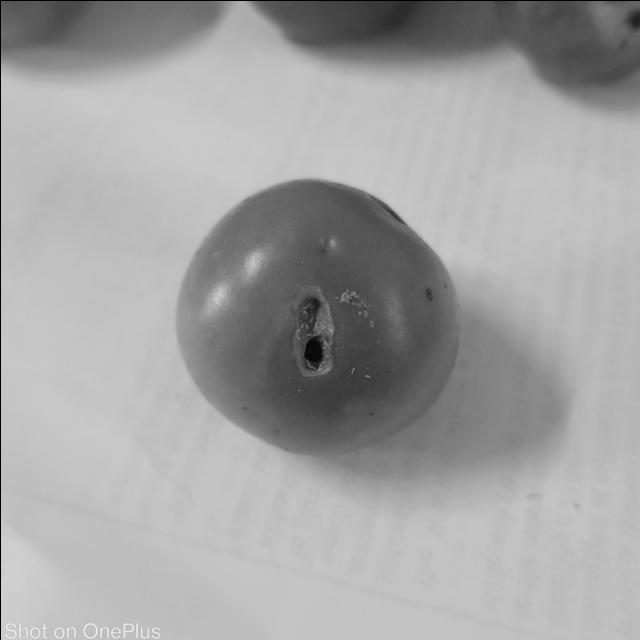fruitworm_bore: (283, 282, 339, 378)
